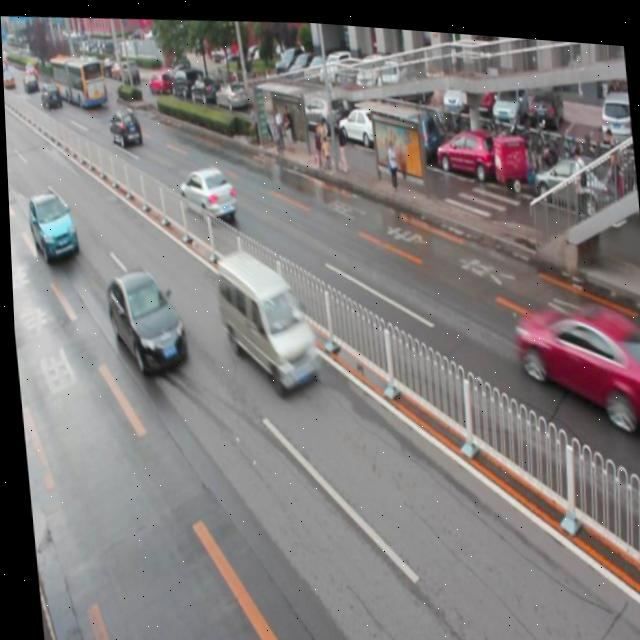car: (508, 285, 640, 431), (104, 264, 186, 375), (25, 189, 78, 266), (175, 161, 235, 222), (106, 104, 141, 149)
truck: (211, 244, 318, 392)
